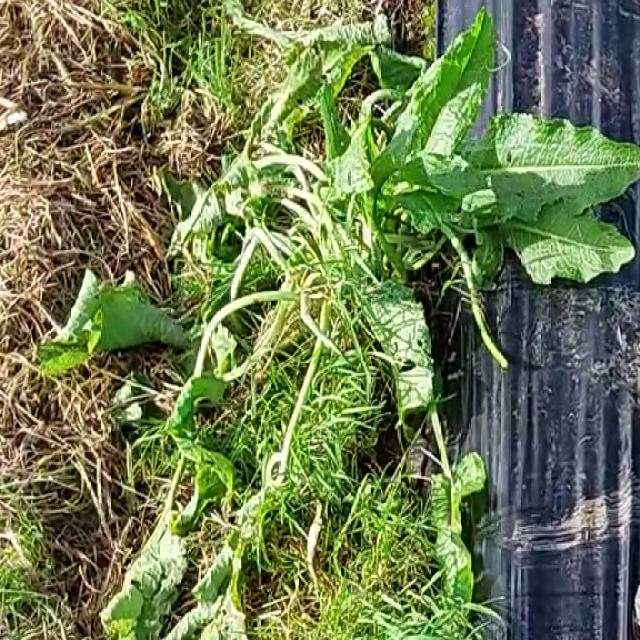organic waste: (150, 54, 640, 428), (360, 79, 640, 308), (19, 218, 280, 416), (102, 388, 301, 640)
